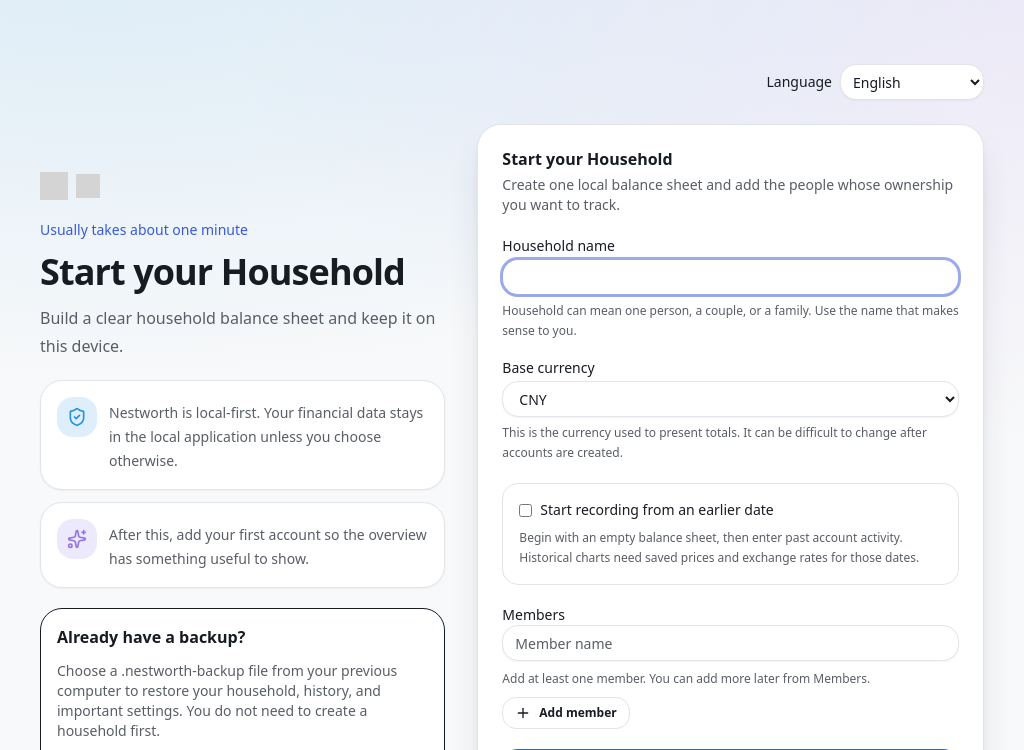
it: OnboardingPage › lets the user switch language before creating a household
Select "简体中文" in the dropdown labelled "Language" at (912, 82), box left=840, top=64, right=984, bottom=100
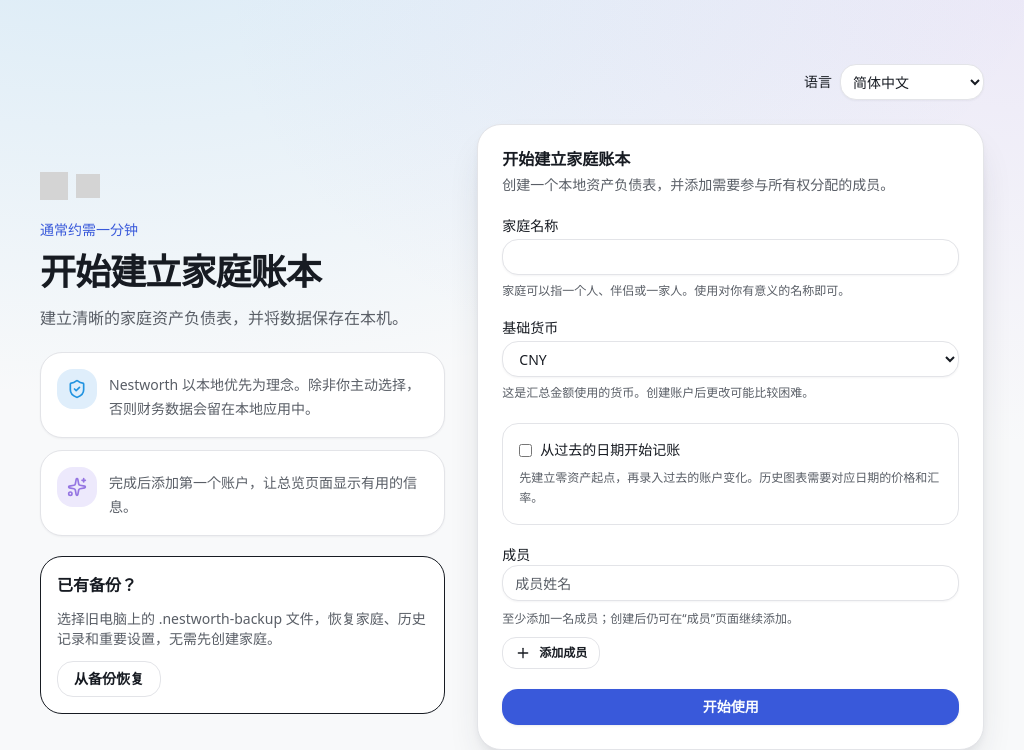
Now the heading "开始建立家庭账本" below "通常约需一分钟" is shown, box left=40, top=247, right=321, bottom=296
